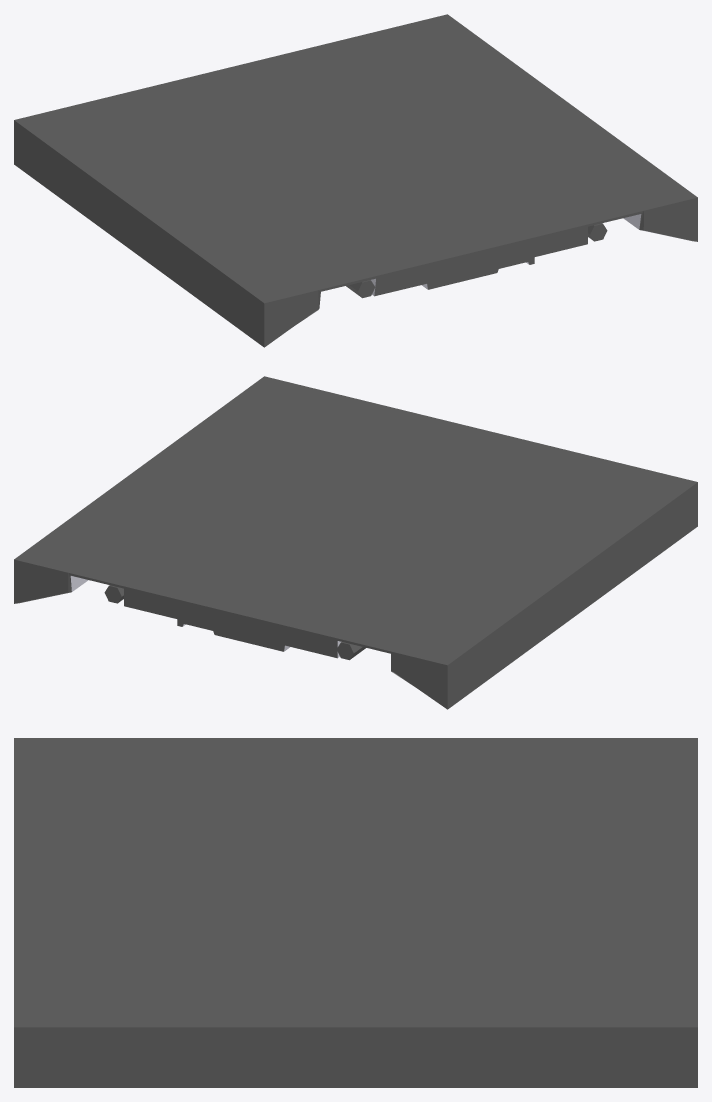
File: SM_Bld_Ceiling_01.glb
The picture shows the model from 3 angles, top to bottom: view 1: azimuth 30°, elevation 25°; view 2: azimuth 150°, elevation 25°; view 3: azimuth 270°, elevation 25°; orthographic projection. The views are drawn at different scales.
Visible parts, largest first — view 1: SM_Bld_Ceiling_01; view 2: SM_Bld_Ceiling_01; view 3: SM_Bld_Ceiling_01.
Boxes of the visible parts, <box> form: SM_Bld_Ceiling_01: <box>14,14,697,347</box>; SM_Bld_Ceiling_01: <box>14,376,697,709</box>; SM_Bld_Ceiling_01: <box>14,738,697,1087</box>.
Size of what is drawn, in the model's own units: 5 by 0.4892 by 5.
1 material, 1 textured.
